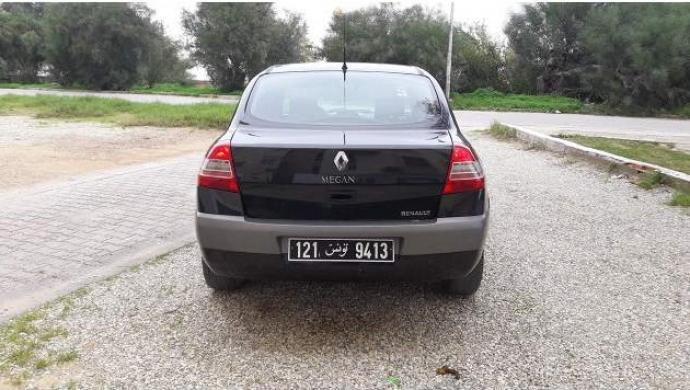LP: (286, 236, 399, 267)
